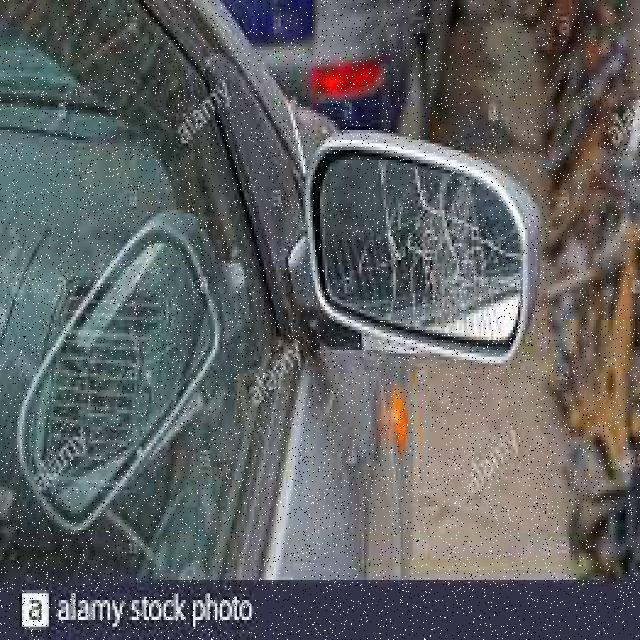car damage: (293, 127, 547, 397)
